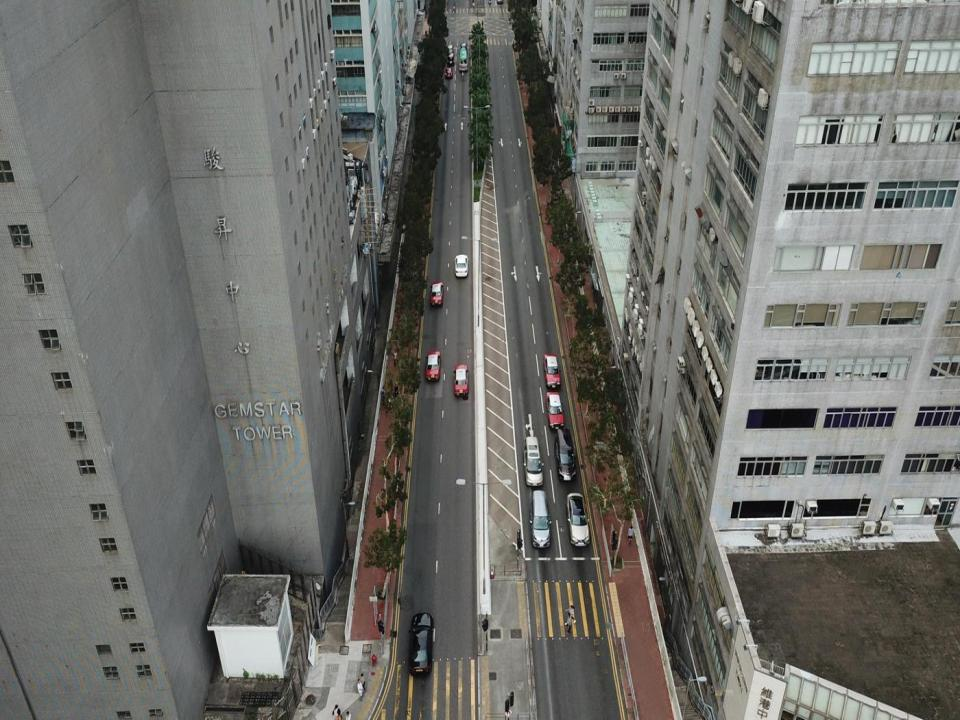bus: (458, 47, 468, 72)
car: (408, 613, 436, 675), (566, 492, 591, 546), (546, 391, 564, 430), (543, 353, 560, 387), (452, 363, 468, 398), (426, 350, 440, 383), (430, 280, 444, 307), (455, 252, 468, 279), (444, 65, 452, 78), (460, 41, 466, 54), (447, 44, 455, 51)
van: (530, 488, 552, 549), (554, 428, 577, 482), (522, 435, 543, 486), (447, 50, 454, 63)
